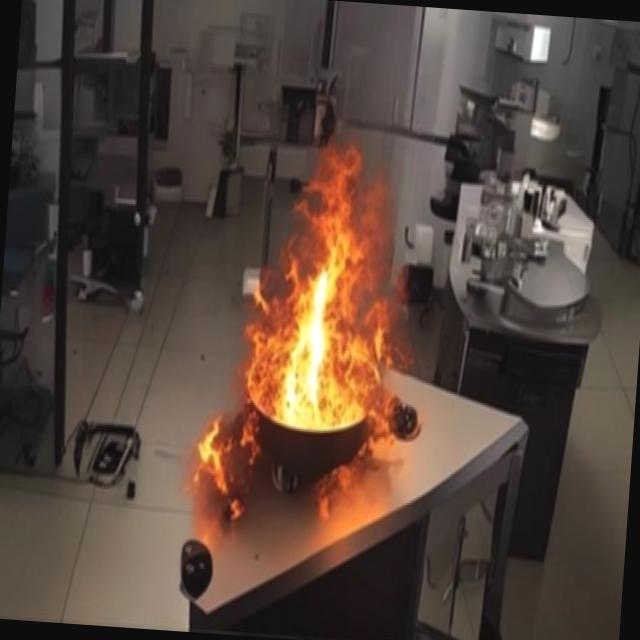fire: (202, 114, 432, 546)
